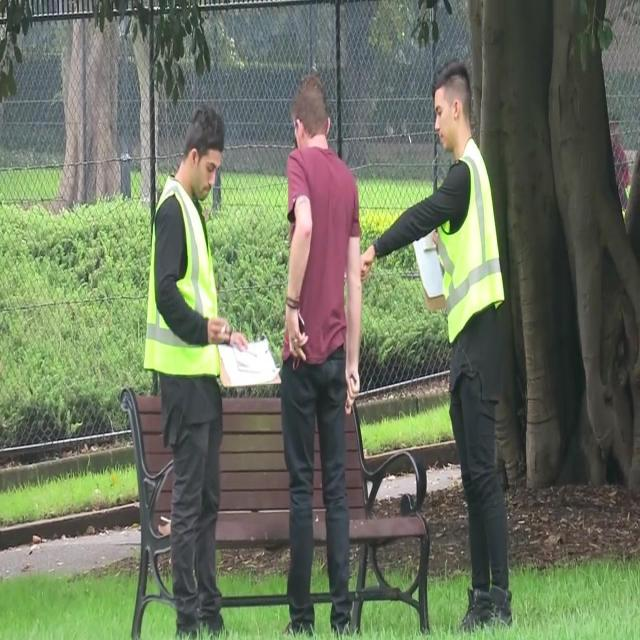Vest: (142, 170, 220, 380), (437, 140, 505, 344)
